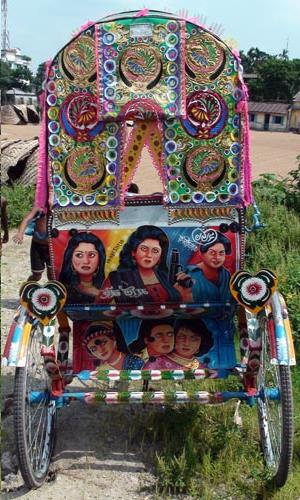Rickshaw: (9, 8, 298, 432)
